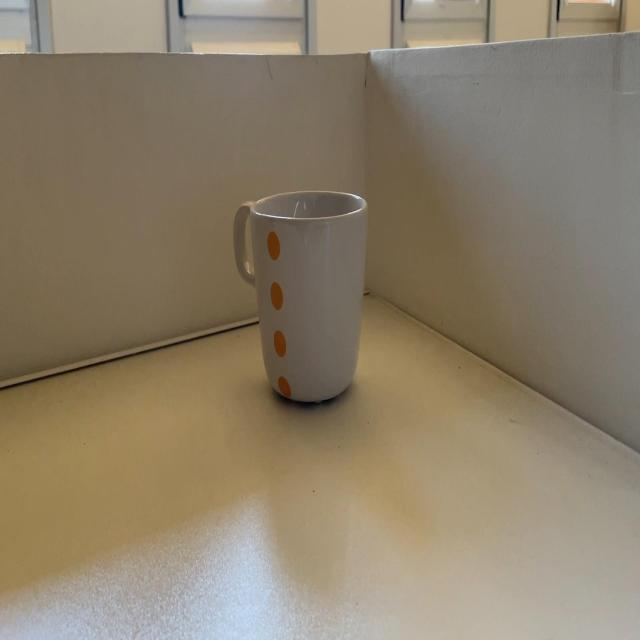cup: (230, 189, 380, 399)
